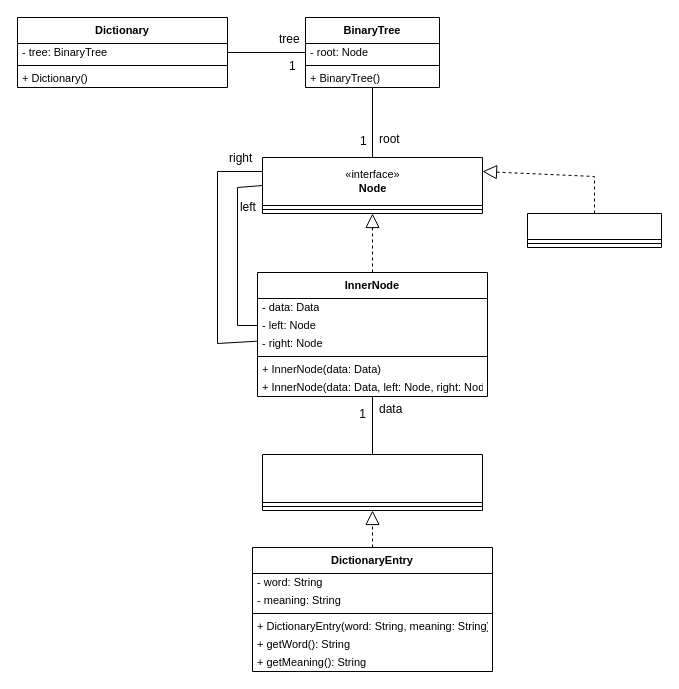
Some shapes in this 679 by 689 pixel diagram are drawn without their labels. Here are the shapes that lost their labels. From the top down, the centre of each, then its label:
At [594,230]: "EndNode".
At [372,482]: "«interface» Data".
